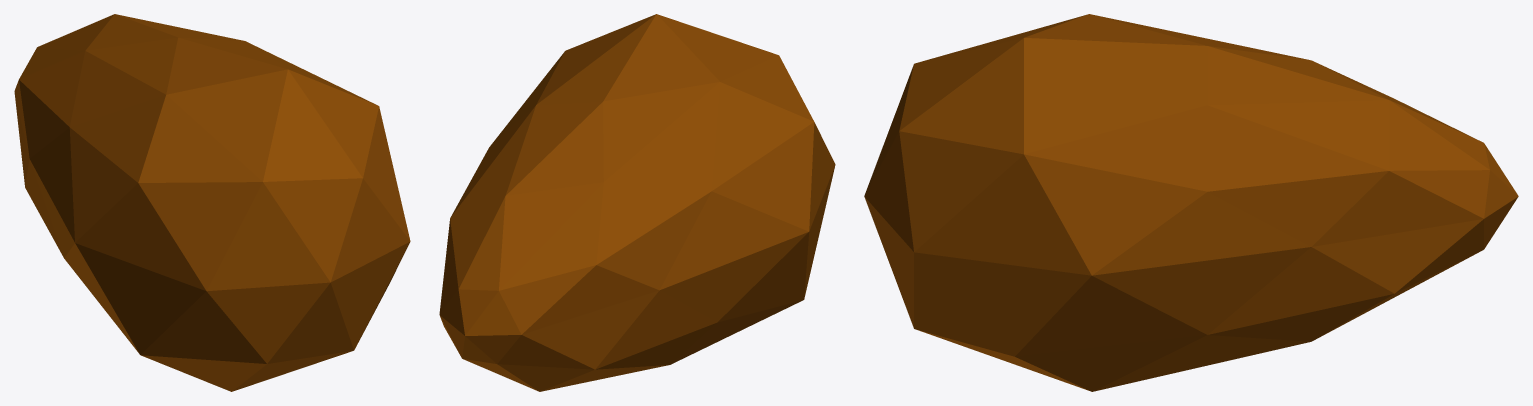
File: seed.fbx
The picture shows the model from 3 angles, left to right: view 1: azimuth 30°, elevation 25°; view 2: azimuth 150°, elevation 25°; view 3: azimuth 270°, elevation 25°; orthographic projection. The views are drawn at different scales.
Parts seen in each view (by area): view 1: Icosphere; view 2: Icosphere; view 3: Icosphere.
Boxes of the visible parts, x1,y1,x2,y2 form: Icosphere: (14, 14, 410, 391); Icosphere: (439, 14, 835, 391); Icosphere: (864, 14, 1518, 391).
Size of the model in its own units: 31.15 by 30.06 by 51.25.
